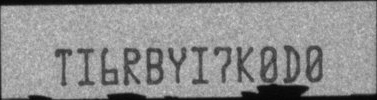0: (305, 44, 324, 83), (259, 46, 278, 83)
6: (99, 47, 117, 86)
7: (214, 45, 232, 84)
B: (146, 47, 164, 84)
D: (282, 44, 301, 83)
I: (76, 48, 96, 86), (191, 45, 209, 85)
K: (237, 45, 255, 83)
R: (121, 46, 141, 86)
T: (55, 48, 73, 87)
Y: (168, 46, 187, 84)
